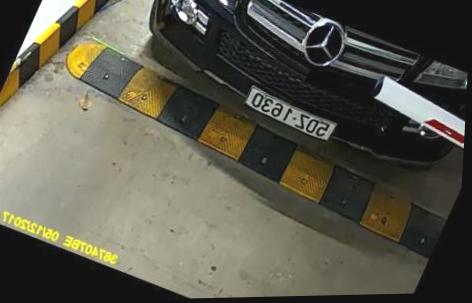License_Plate: (242, 84, 342, 148)
